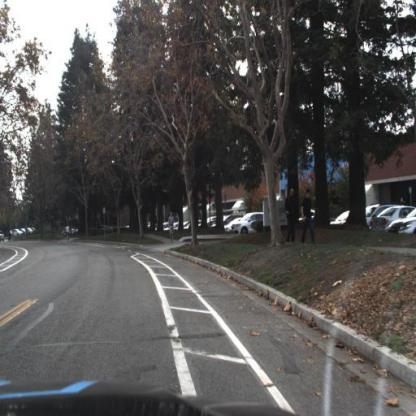car: (370, 205, 416, 237), (230, 212, 264, 238)
pedestrian: (284, 187, 298, 247), (302, 187, 316, 247), (166, 211, 178, 247)
